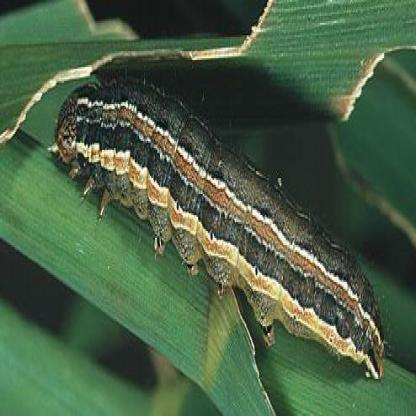armyworm: (47, 31, 408, 410)
